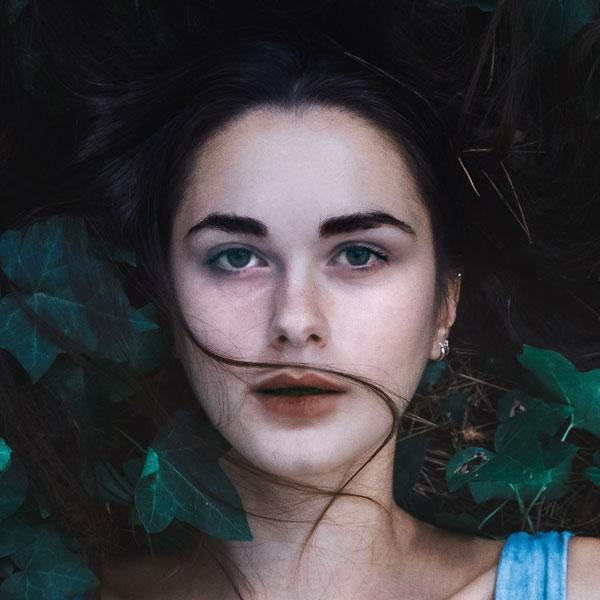Eyes: (315, 229, 397, 284), (197, 230, 277, 286)
